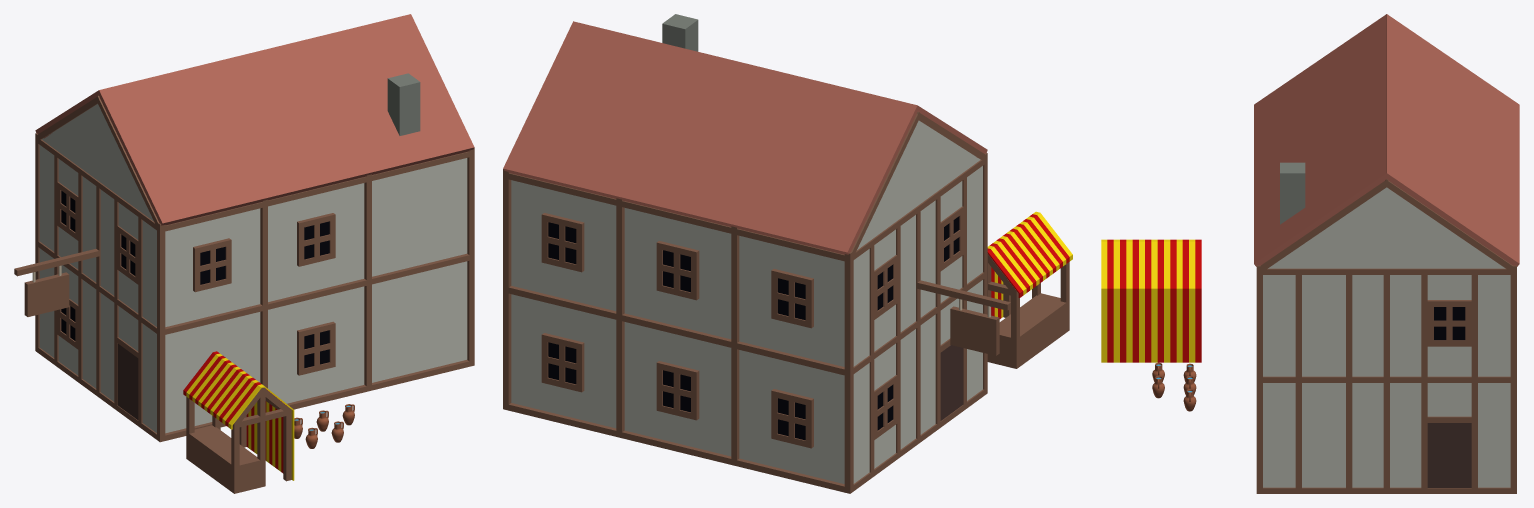
The model's file is timberframedpotter_red_yellow.obj.
3 renders of one model, left to right at view 1: azimuth 30°, elevation 25°; view 2: azimuth 150°, elevation 25°; view 3: azimuth 270°, elevation 25°, orthographic. The views are drawn at different scales.
Visible parts, largest first — view 1: Cube.005, Cube.007_Cube.011, Cube.011_Cube.015, Cube.018_Cube.016, Cube.026_Cube.019, Cube.006_Cube.010, Cube.001_Cube.058, Cube.056_Cube.081, Cube.013_Cube.080, Cube.055_Cube.059, Cube.147_Cube.153, Cube.010_Cube.053 (+24 smaller); view 2: Cube.005, Cube.007_Cube.011, Cube.023_Cube.026, Cube.022_Cube.025, Cube.021_Cube.024, Cube.028, Cube.019_Cube.022, Cube.017_Cube.021, Cube.014_Cube.018, Cube.008, Cube.015_Cube.020, Cube.020_Cube.023 (+23 smaller); view 3: Cube.005, Cube.007_Cube.011, Cube.147_Cube.153, Cube.003, Cube.033, Cube.016_Cube.013, Cube.031, Cube.032, Cube.012_Cube.017, Cube.027, Cube.046_Cube.048, Cube.034 (+6 smaller).
Boxes of the visible parts, left/top/right/bottom form: Cube.005: left=39, top=104, right=467, bottom=433; Cube.007_Cube.011: left=35, top=14, right=474, bottom=225; Cube.011_Cube.015: left=161, top=253, right=473, bottom=335; Cube.018_Cube.016: left=161, top=151, right=473, bottom=231; Cube.026_Cube.019: left=157, top=223, right=165, bottom=442; Cube.006_Cube.010: left=387, top=73, right=420, bottom=135; Cube.001_Cube.058: left=297, top=321, right=335, bottom=375; Cube.056_Cube.081: left=193, top=238, right=231, bottom=292; Cube.013_Cube.080: left=297, top=213, right=335, bottom=266; Cube.055_Cube.059: left=161, top=360, right=473, bottom=441; Cube.147_Cube.153: left=246, top=401, right=294, bottom=480; Cube.010_Cube.053: left=364, top=174, right=371, bottom=391; Cube.005: left=511, top=120, right=982, bottom=483; Cube.007_Cube.011: left=503, top=21, right=987, bottom=254; Cube.023_Cube.026: left=508, top=403, right=848, bottom=492; Cube.022_Cube.025: left=508, top=286, right=848, bottom=375; Cube.021_Cube.024: left=504, top=172, right=844, bottom=261; Cube.028: left=844, top=251, right=853, bottom=493; Cube.019_Cube.022: left=656, top=361, right=699, bottom=420; Cube.017_Cube.021: left=541, top=333, right=584, bottom=392; Cube.014_Cube.018: left=656, top=241, right=699, bottom=300; Cube.008: left=541, top=213, right=584, bottom=272; Cube.015_Cube.020: left=771, top=269, right=813, bottom=328; Cube.020_Cube.023: left=771, top=389, right=813, bottom=448; Cube.005: left=1263, top=187, right=1510, bottom=487; Cube.007_Cube.011: left=1254, top=14, right=1519, bottom=266; Cube.147_Cube.153: left=1101, top=288, right=1201, bottom=362; Cube.003: left=1427, top=423, right=1471, bottom=487; Cube.033: left=1427, top=300, right=1471, bottom=346; Cube.016_Cube.013: left=1261, top=376, right=1511, bottom=382; Cube.031: left=1261, top=487, right=1512, bottom=493; Cube.032: left=1261, top=268, right=1512, bottom=274; Cube.012_Cube.017: left=1256, top=265, right=1262, bottom=493; Cube.027: left=1510, top=265, right=1516, bottom=493; Cube.046_Cube.048: left=1346, top=268, right=1352, bottom=490; Cube.034: left=1383, top=268, right=1389, bottom=490.
Size of the model in its own units: 15.3 by 11.25 by 13.34.
